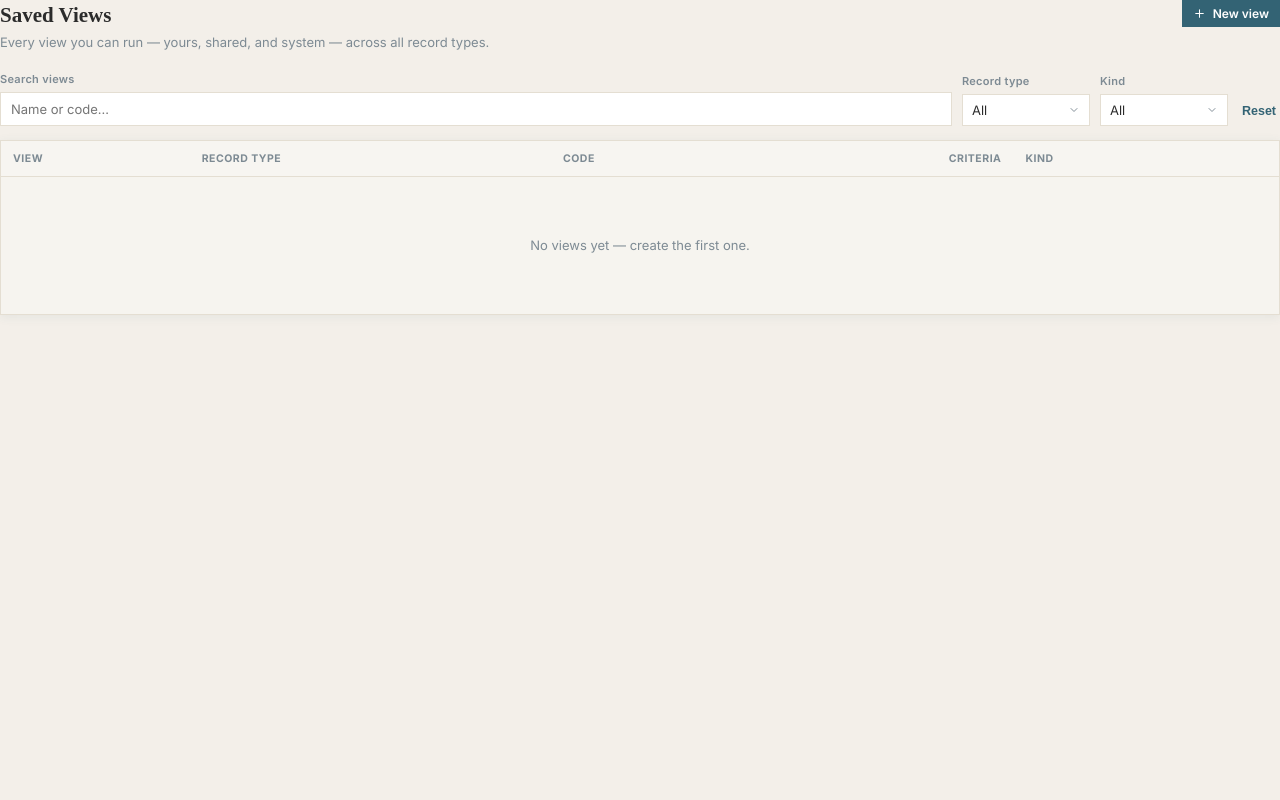
Test: SavedViewsHome — the builder’s front door (D7.5 task 1) › New view: pick ANY record type, the existing builder opens for it — no list screen involved
The image size is (1280, 800).
Click the button "New view". click: (1231, 14)
box: [1182,0,1279,27]
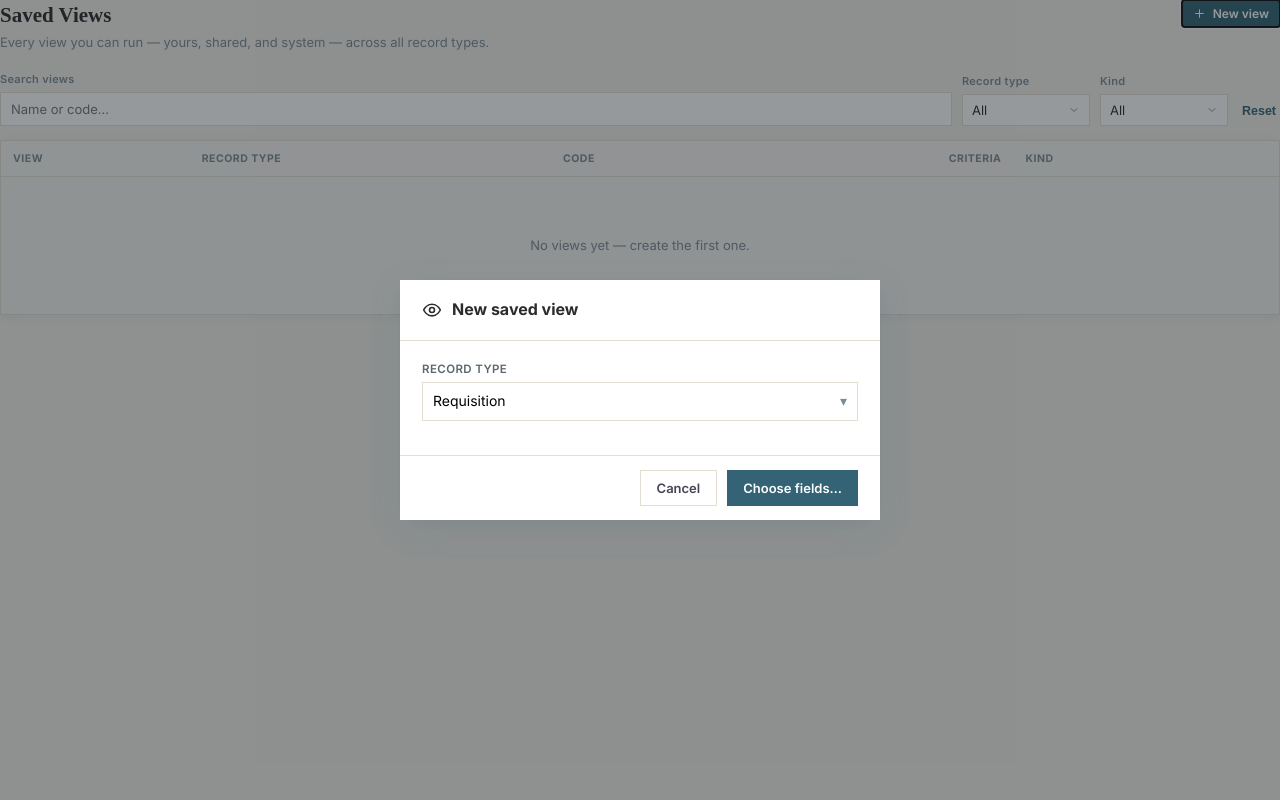
Note: T7: Record type is now a searchable SearchSelectField (button → option), not a native select.
Click the button with aria-label "Record type". click: (469, 401)
box: [422,382,858,421]
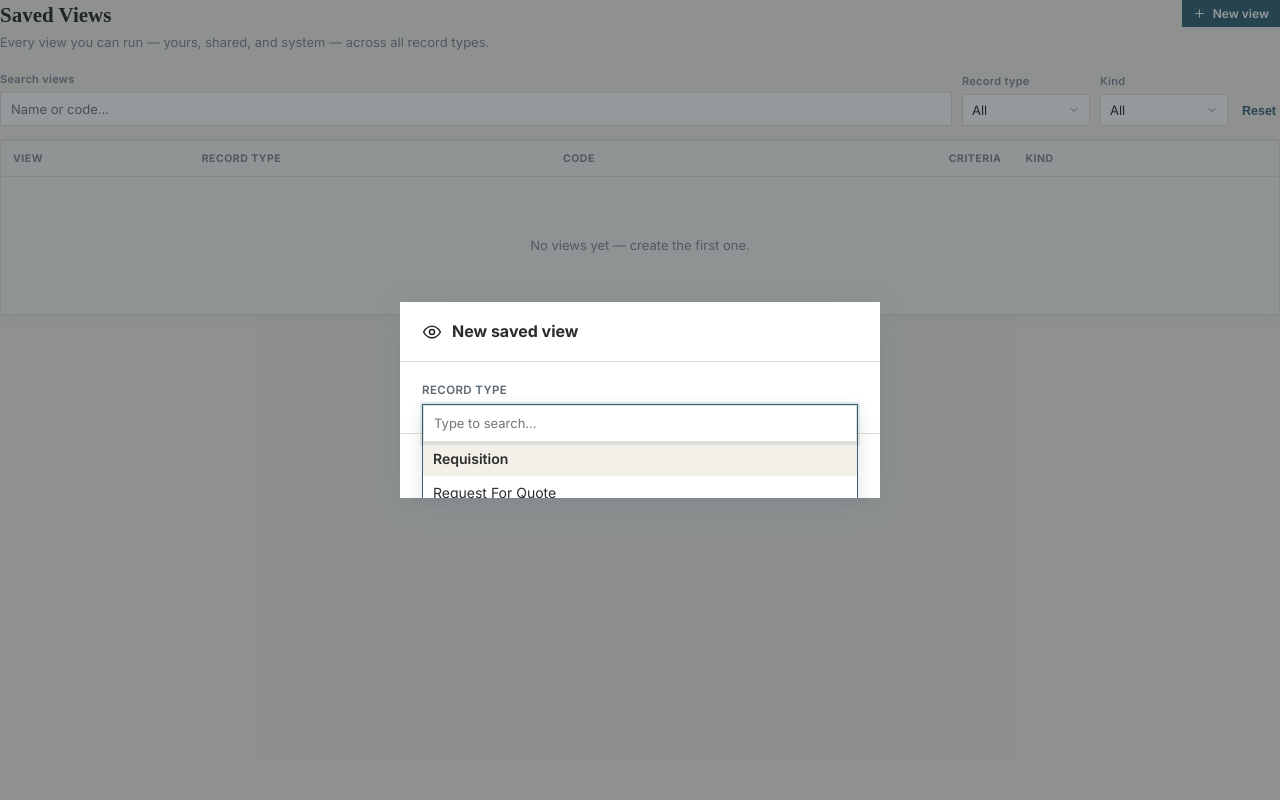
Click the option "Requisition". click: (471, 458)
box: [423,442,857,476]
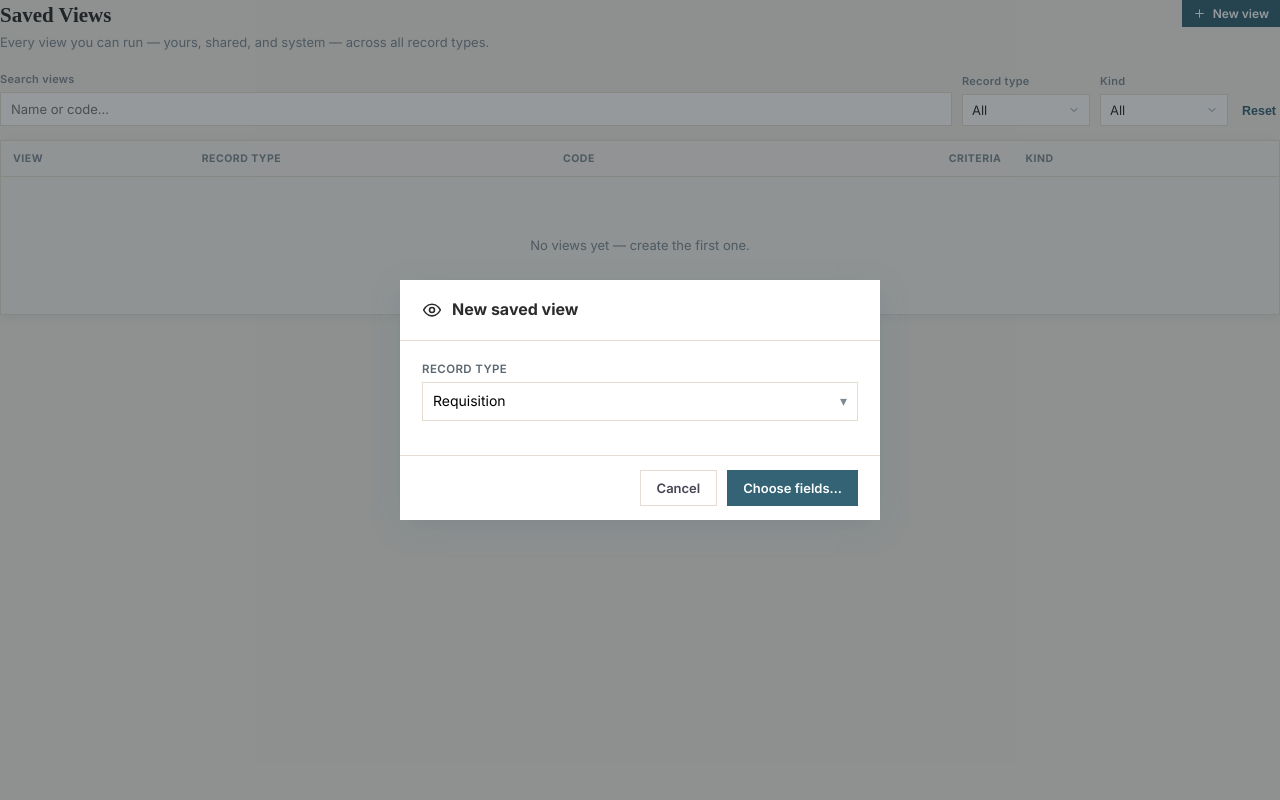
Click the button "Choose fields…". click: (793, 488)
box: [727,470,858,506]
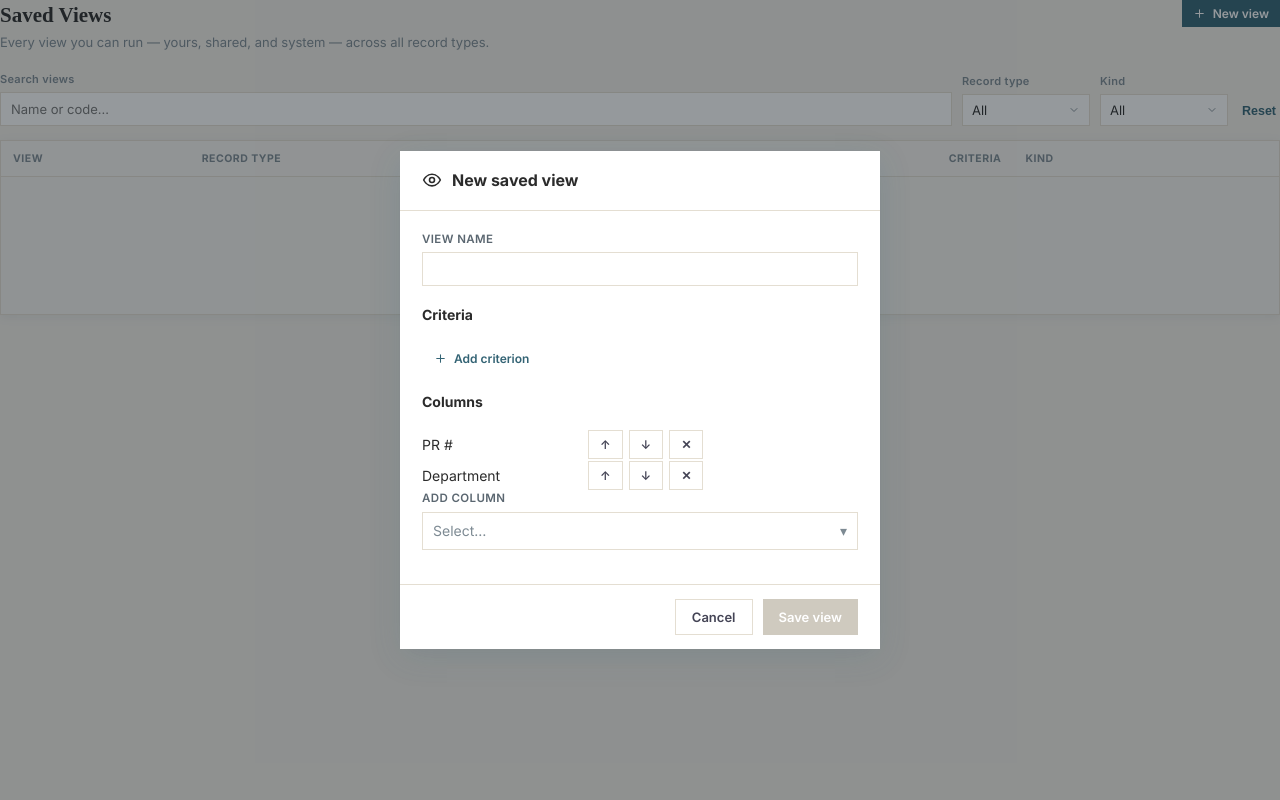
Check: the heading "New saved view" is shown, box [452,169,578,192]
Check: the field labelled "View name" is shown, box [422,252,858,286]
